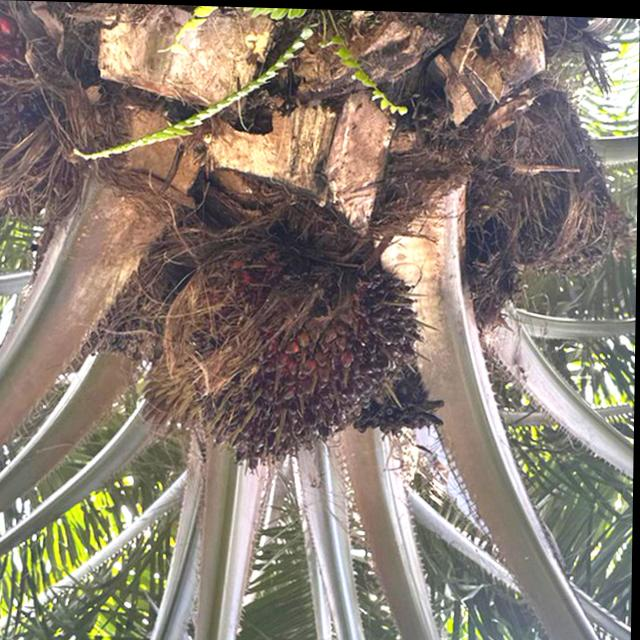ripe: (147, 223, 451, 486)
